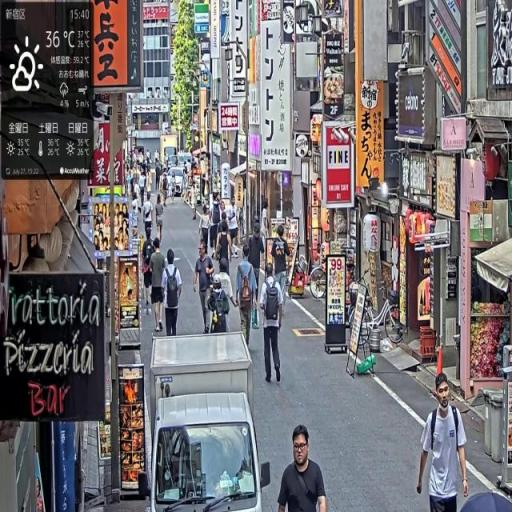person: (417, 372, 471, 512), (278, 423, 328, 512), (257, 260, 286, 389), (236, 245, 259, 351), (162, 247, 184, 337), (194, 241, 215, 335), (248, 222, 267, 313), (150, 238, 167, 334)
